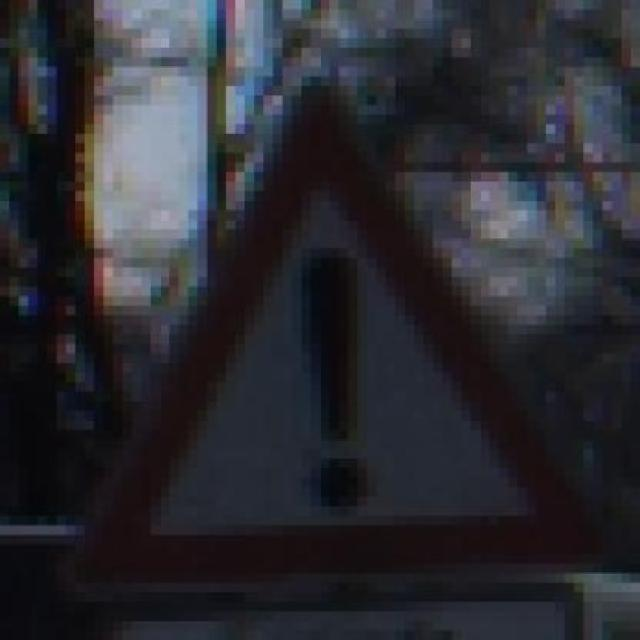Attention Please-: (65, 66, 602, 583)
